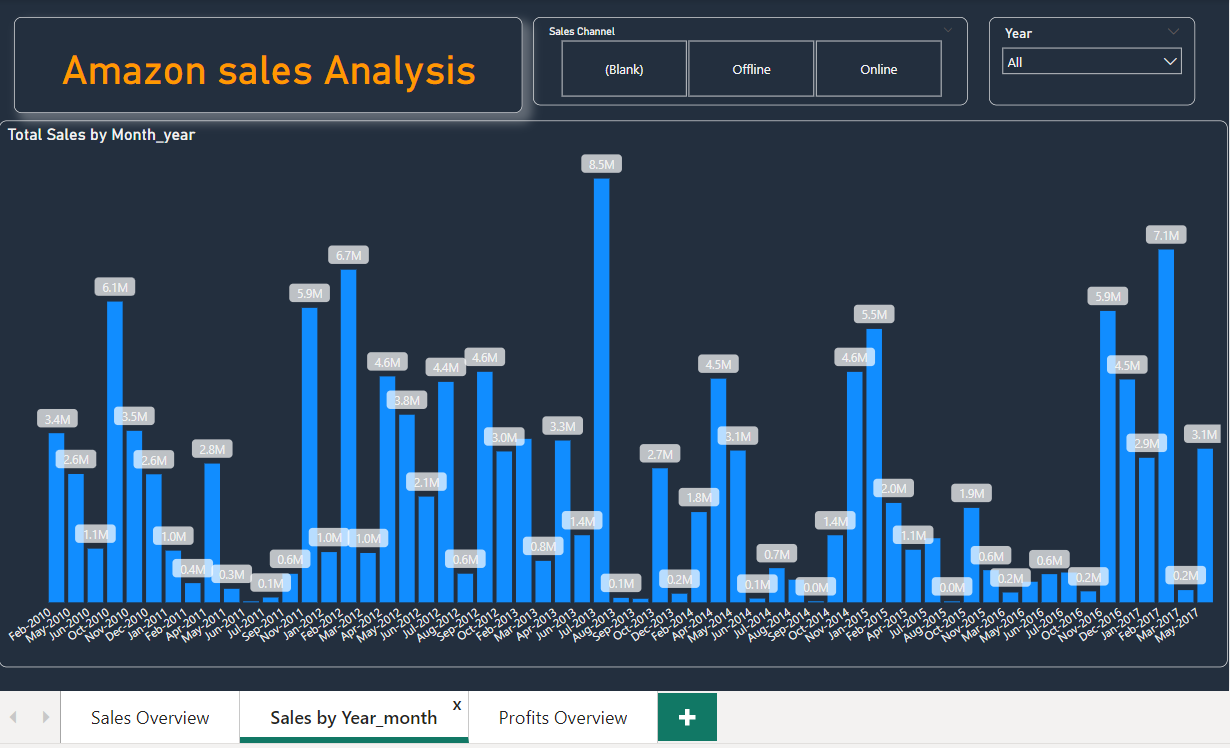

This screenshot's page, from the dashboard's own definition file:
{"tool":"powerbi","page":{"name":"Sales by Year_month","canvas":[1280,720],"ordinal":1},"visuals":[{"type":"lineStackedColumnComboChart","fields":{"Category":["date.Month_year"],"Y":["Key Measures.Total_sales"]},"box":[0,127.2,1279.5,569],"z":0},{"type":"slicer","fields":{"Values":["date.Year"]},"box":[1031.5,19.1,214.6,92.2],"z":1000},{"type":"slicer","fields":{"Values":["Amazon Sales data.Sales Channel"]},"box":[556.3,19.1,453,92.2],"z":2000},{"type":"card","fields":{"Values":["Key Measures.Title"]},"box":[15.9,19.1,529.3,100.1],"z":3000}]}

Visuals, with their boxes on the page's 1280x720 design canvas (x1, y1, x2, y2). These are canvas units, not pixel positions in the 1230x748 screenshot, which may show the page scaled, cropped or inside an application window:
lineStackedColumnComboChart - date.Month_year x Key Measures.Total_sales: Rect(0, 127, 1280, 696)
slicer - date.Year: Rect(1032, 19, 1246, 111)
slicer - Amazon Sales data.Sales Channel: Rect(556, 19, 1009, 111)
card - Key Measures.Title: Rect(16, 19, 545, 119)
